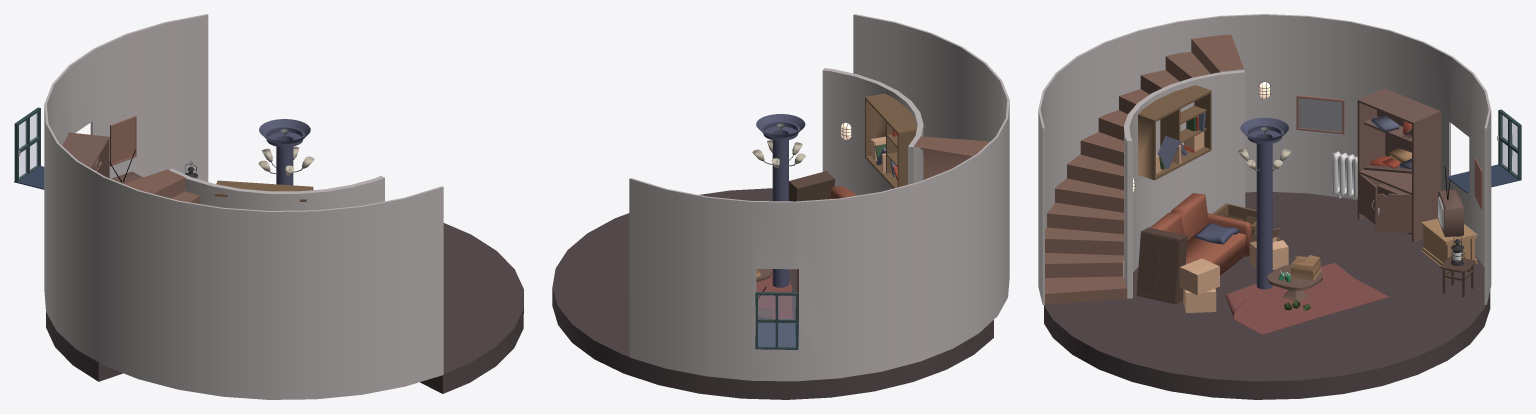
Rendered from Secondfloor.fbx.
3 renders of one model, left to right at view 1: azimuth 30°, elevation 25°; view 2: azimuth 150°, elevation 25°; view 3: azimuth 270°, elevation 25°, orthographic. The views are drawn at different scales.
Parts seen in each view (by area): view 1: secondFloorWall, floor, stairsWall, pilar, window.002, brokencabinet, stairsSecondFloor, painting.001, bookshelf, chandelier; view 2: secondFloorWall, floor, stairsWall, bookshelf, window.002, pilar, stairsSecondFloor, cabinet, carpetRed, windowPlate, chandelier; view 3: floor, secondFloorWall, stairsSecondFloor, stairsWall, brokencabinet, bookshelf, carpetRed, couch, pilar, cabinet, painting, woodenBox (+12 smaller).
Boxes of the visible parts, x1=… form: secondFloorWall: x1=44, y1=14, x2=443, y2=399; floor: x1=46, y1=223, x2=523, y2=393; stairsWall: x1=169, y1=168, x2=384, y2=210; pilar: x1=259, y1=119, x2=310, y2=185; window.002: x1=14, y1=107, x2=40, y2=181; brokencabinet: x1=62, y1=132, x2=109, y2=178; stairsSecondFloor: x1=124, y1=169, x2=200, y2=203; painting.001: x1=110, y1=115, x2=136, y2=166; bookshelf: x1=215, y1=180, x2=313, y2=201; chandelier: x1=258, y1=129, x2=314, y2=176; secondFloorWall: x1=629, y1=14, x2=1009, y2=381; floor: x1=552, y1=188, x2=993, y2=399; stairsWall: x1=822, y1=68, x2=923, y2=195; bookshelf: x1=865, y1=93, x2=925, y2=188; window.002: x1=755, y1=292, x2=798, y2=348; pilar: x1=756, y1=114, x2=805, y2=287; stairsSecondFloor: x1=913, y1=136, x2=989, y2=179; cabinet: x1=789, y1=171, x2=835, y2=201; carpetRed: x1=756, y1=269, x2=792, y2=318; windowPlate: x1=755, y1=322, x2=798, y2=349; chandelier: x1=752, y1=123, x2=805, y2=168; floor: x1=1044, y1=192, x2=1490, y2=399; secondFloorWall: x1=1038, y1=14, x2=1491, y2=304; stairsSecondFloor: x1=1045, y1=34, x2=1243, y2=304; stairsWall: x1=1124, y1=70, x2=1245, y2=298; brokencabinet: x1=1357, y1=88, x2=1441, y2=242; bookshelf: x1=1138, y1=85, x2=1211, y2=180; carpetRed: x1=1225, y1=263, x2=1389, y2=334; couch: x1=1150, y1=193, x2=1251, y2=275; pilar: x1=1240, y1=117, x2=1288, y2=289; cabinet: x1=1136, y1=227, x2=1187, y2=304; painting: x1=1296, y1=95, x2=1344, y2=134; woodenBox: x1=1421, y1=218, x2=1477, y2=270.
Size of the model in its own units: 698 by 333 by 747.
